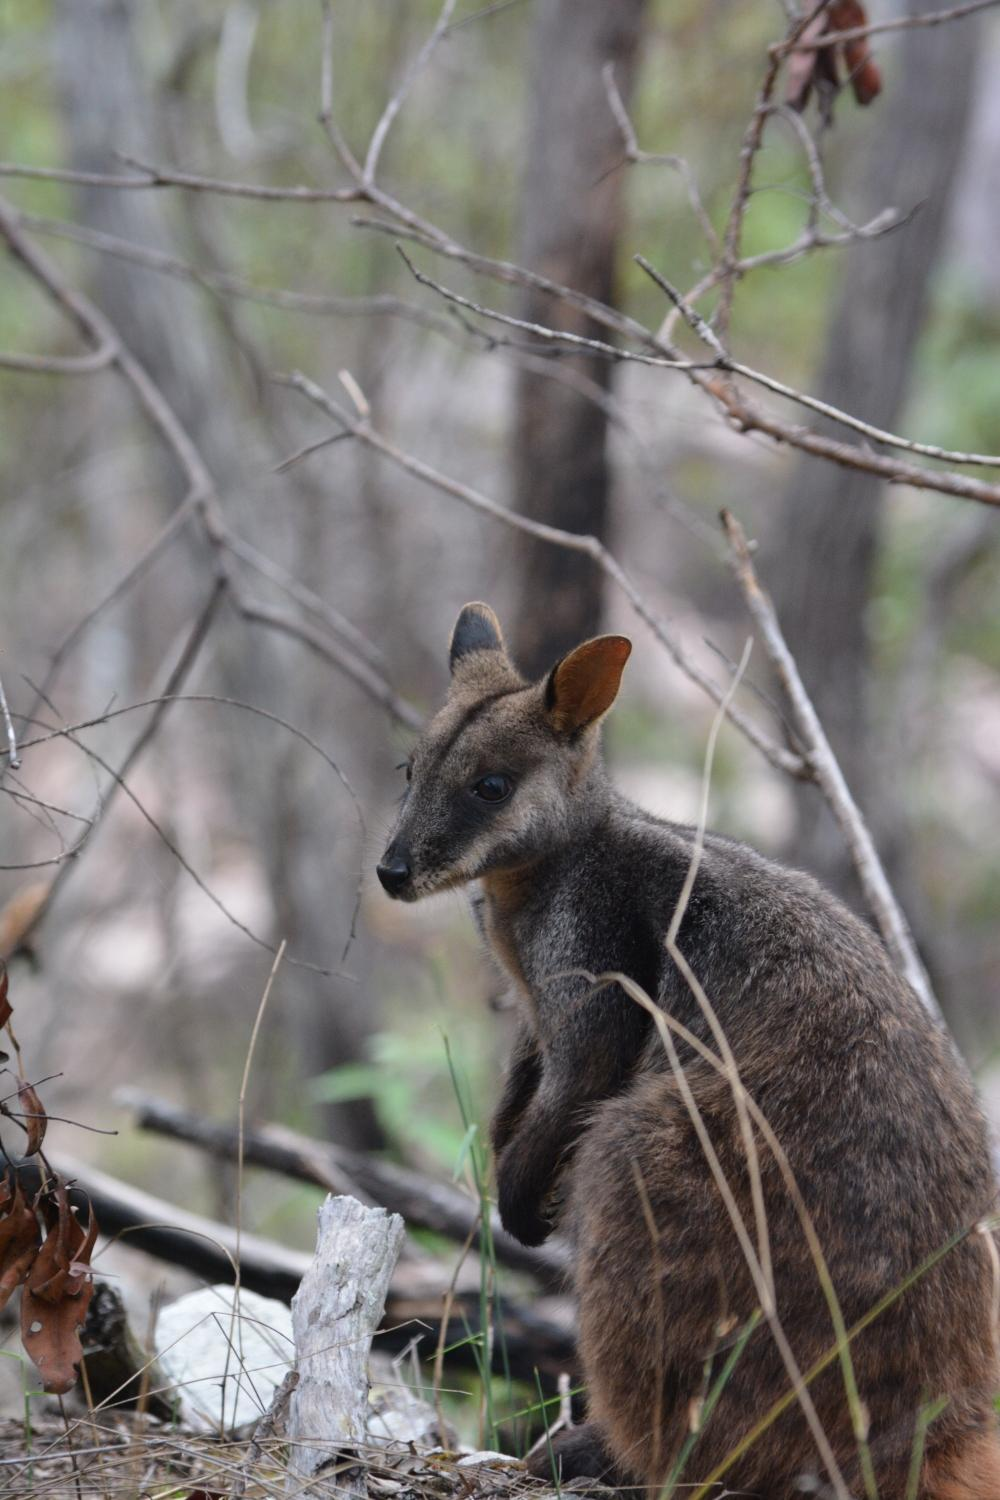Brush-tailed rock-wallaby: (371, 598, 1000, 1500)
